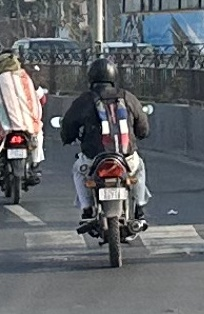BikeWithRider: (49, 53, 159, 271), (0, 45, 52, 207)
Helmet: (82, 55, 123, 95)
NoHelmet: (0, 49, 23, 73)
